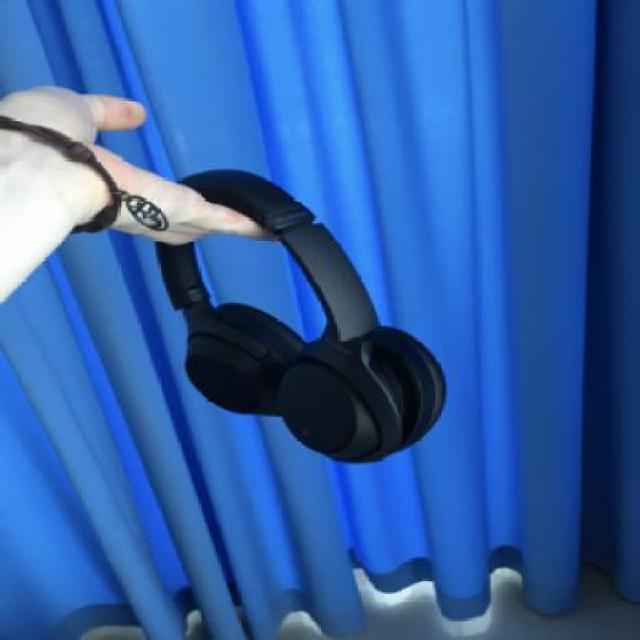earphone: (143, 125, 582, 493)
